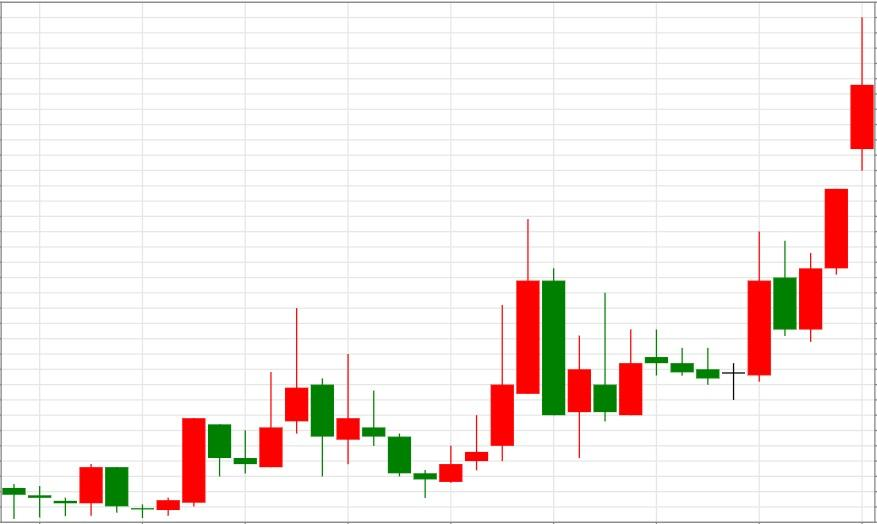shooting_star_fall: (234, 308, 310, 473)
three_white_soldiers_rise: (310, 304, 516, 499)
